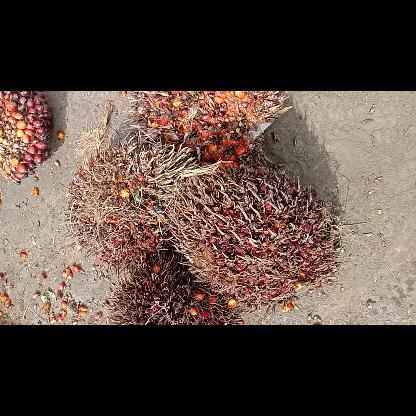Terlalu masak: (169, 164, 342, 304), (62, 132, 198, 266), (128, 92, 290, 160), (108, 252, 242, 324)
